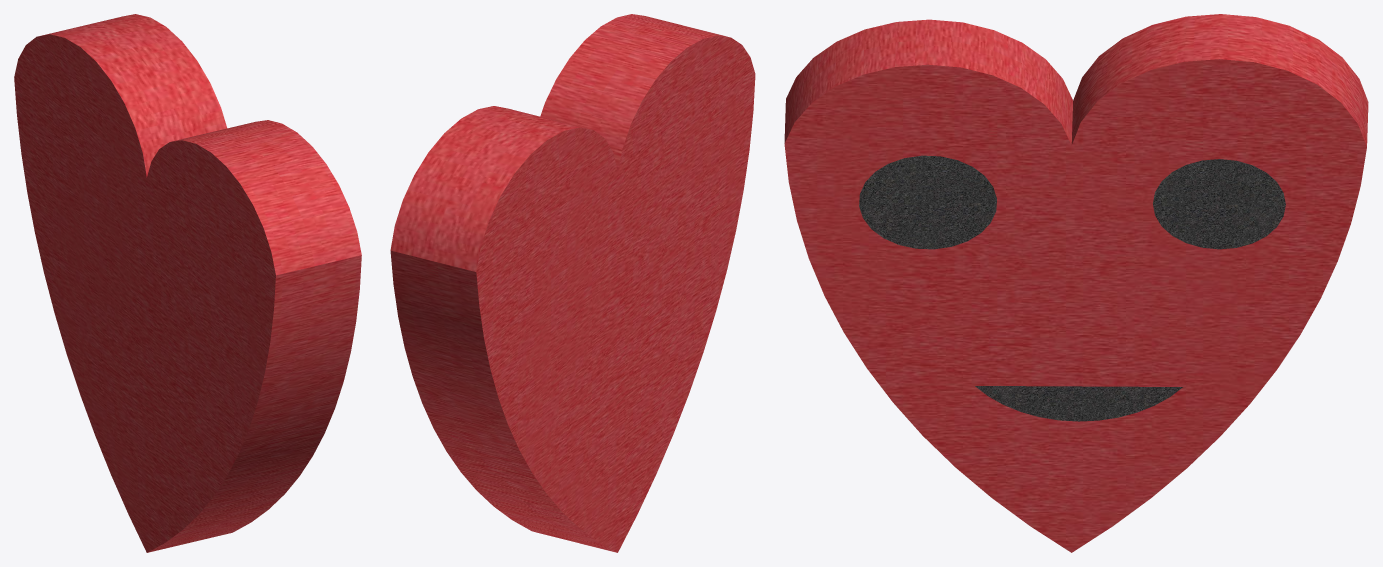
File: creepy-Heart.dae
The picture shows the model from 3 angles, left to right: view 1: azimuth 30°, elevation 25°; view 2: azimuth 150°, elevation 25°; view 3: azimuth 270°, elevation 25°; orthographic projection. The views are drawn at different scales.
Visible parts, largest first — view 1: SketchUp; view 2: SketchUp; view 3: SketchUp, SketchUp_001, SketchUp_003, SketchUp_002.
Part boxes in pixels (x1,y1,x2,y2): SketchUp: [14, 14, 361, 552]; SketchUp: [390, 14, 755, 552]; SketchUp: [784, 14, 1368, 552]; SketchUp_001: [859, 155, 996, 249]; SketchUp_003: [1153, 159, 1285, 249]; SketchUp_002: [975, 386, 1182, 421].
Bounding box in the file's own units: 0.1068 × 0.5428 × 0.5073.
2 materials, 2 textured.
